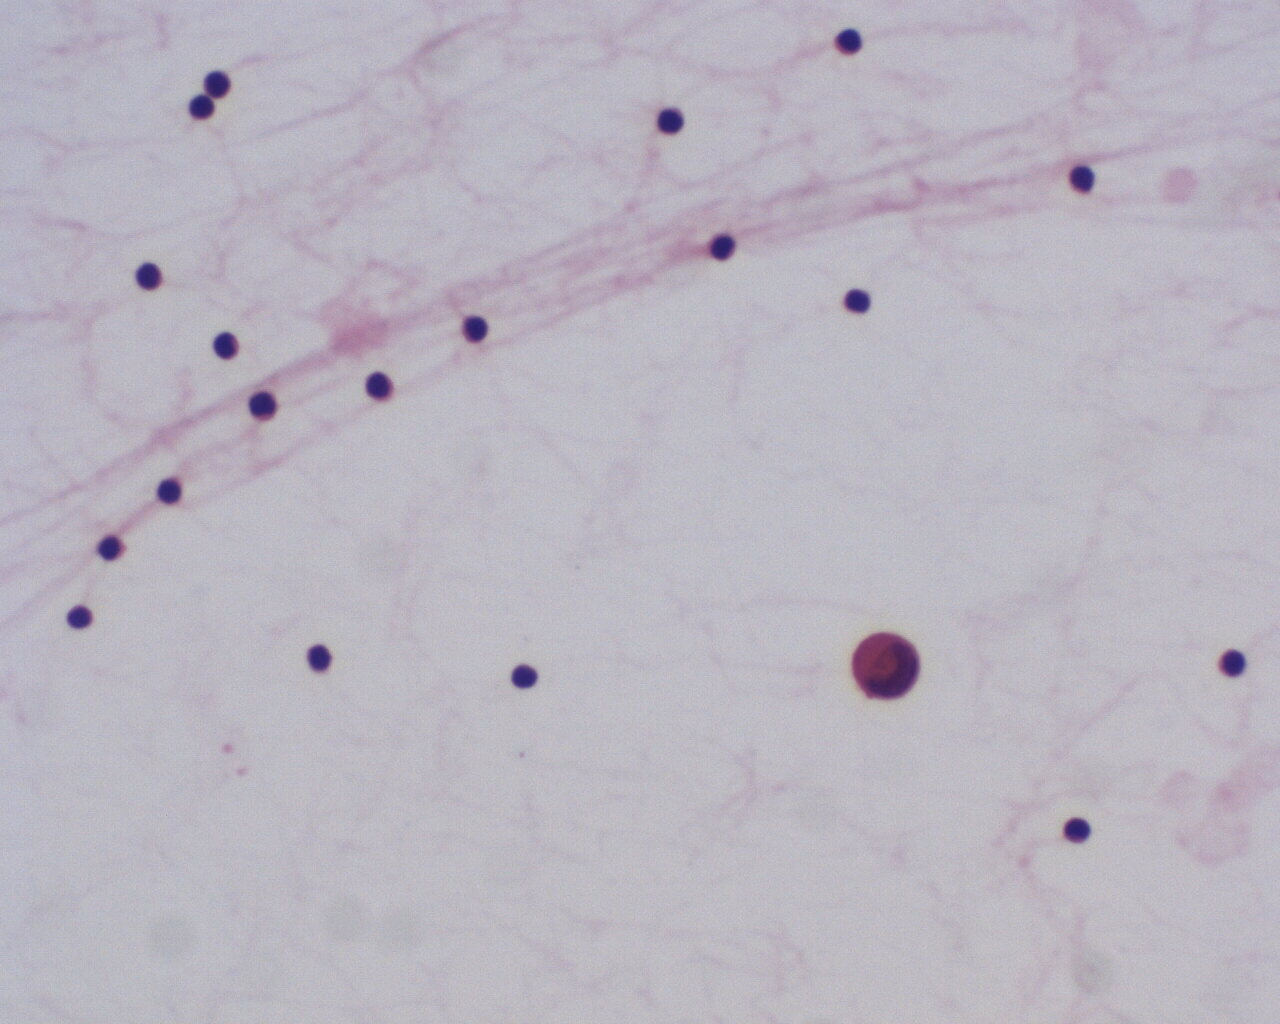ab: (853, 628, 921, 705)
lymph: (364, 364, 399, 409), (130, 257, 169, 297), (152, 471, 190, 511), (1212, 643, 1251, 680), (243, 388, 282, 424), (1062, 162, 1101, 195), (651, 100, 688, 136), (704, 227, 737, 266), (509, 664, 550, 695), (304, 643, 345, 671), (63, 597, 97, 629), (844, 284, 877, 315), (1060, 817, 1090, 846)
